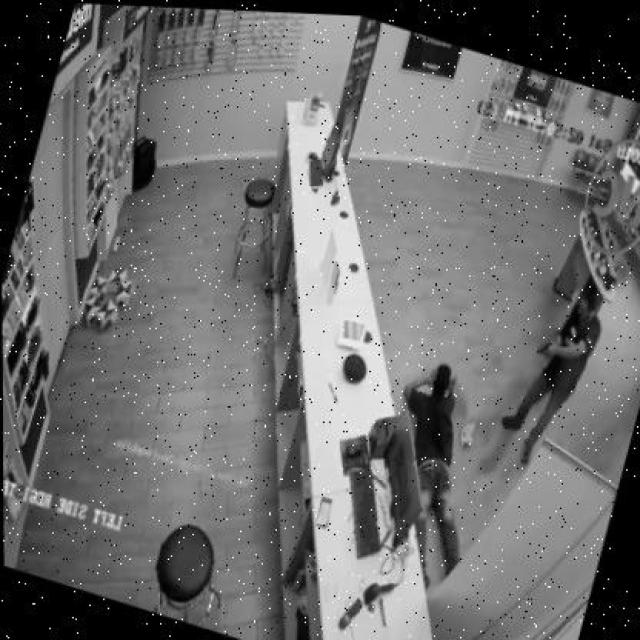weapon: (536, 339, 556, 356)
